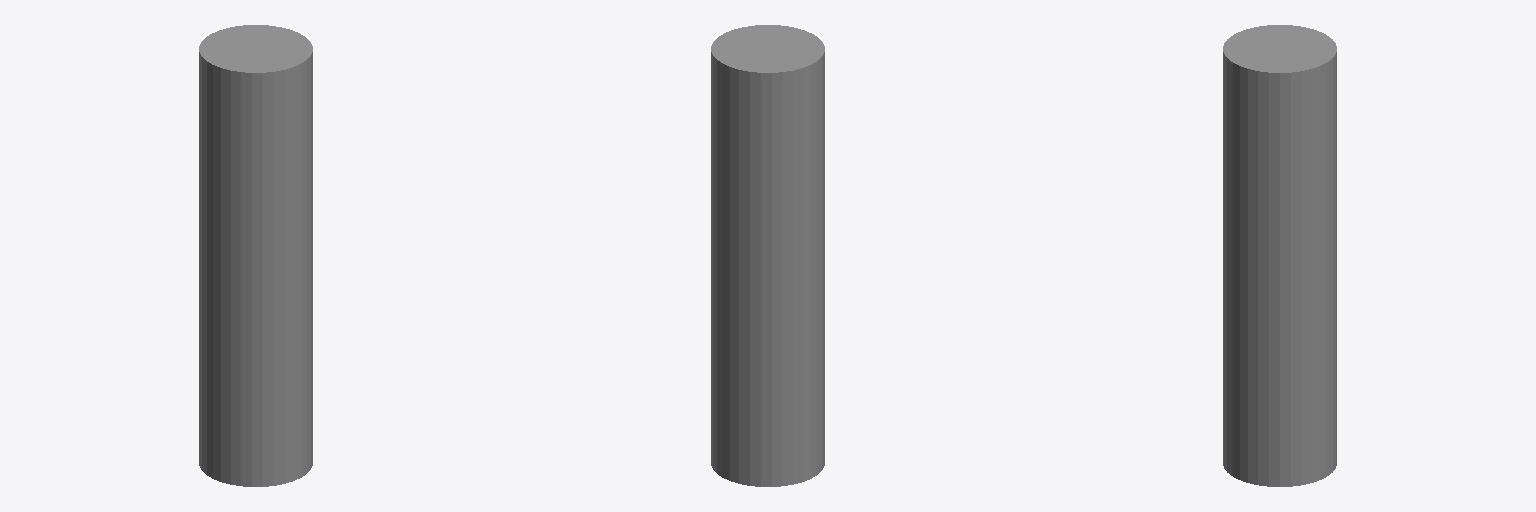
File: pilar.obj
3 views of the same model, side by side, from view 1: azimuth 30°, elevation 25°; view 2: azimuth 150°, elevation 25°; view 3: azimuth 270°, elevation 25° (orthographic).
Parts seen in each view (by area): view 1: Cylinder_Cylinder.001; view 2: Cylinder_Cylinder.001; view 3: Cylinder_Cylinder.001.
Part boxes in pixels (left/top/right/bottom): Cylinder_Cylinder.001: left=199, top=25, right=312, bottom=486; Cylinder_Cylinder.001: left=711, top=25, right=824, bottom=486; Cylinder_Cylinder.001: left=1223, top=25, right=1336, bottom=486.
Size of the model in its own units: 0.5 by 2 by 0.5.